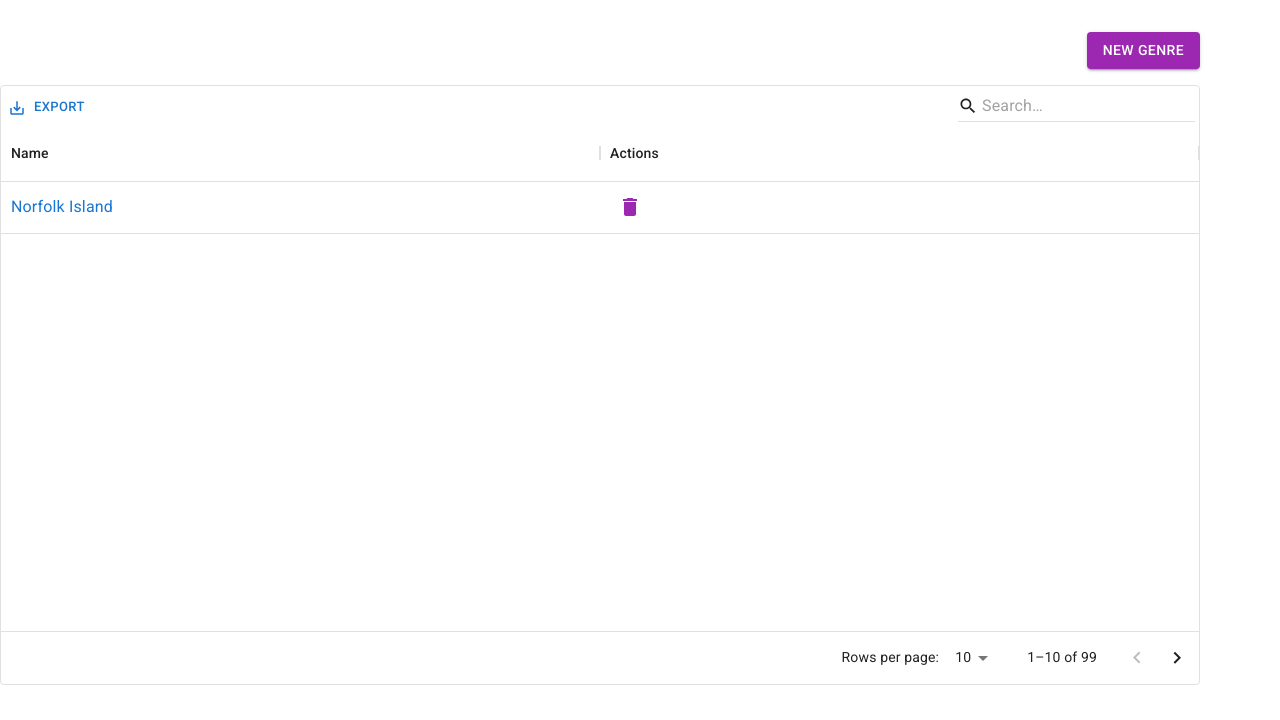
it: ListGenre › should handle Delete Genre error
The image size is (1280, 720).
Expected: the text "Norfolk Island" is shown, left=11, top=195, right=113, bottom=219
Click the button with test id "delete-button".
click(630, 207)  # box left=610, top=187, right=650, bottom=227
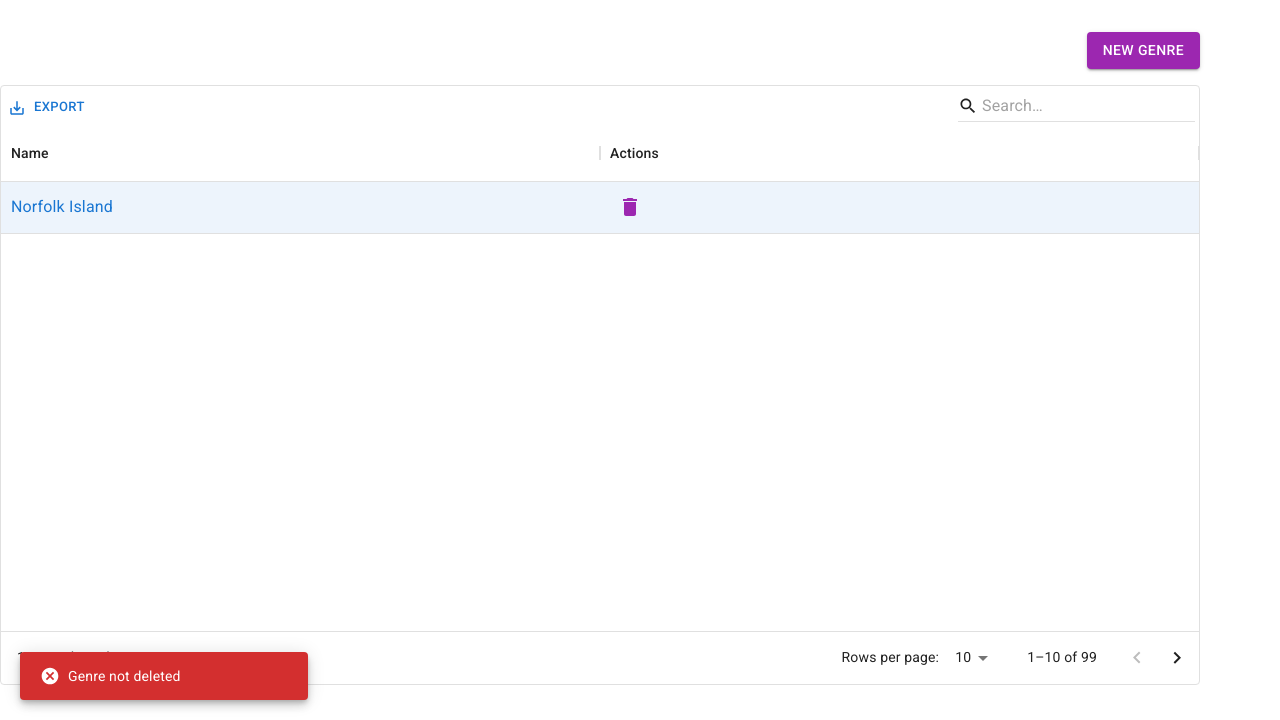
Expected: the text "Genre not deleted" is shown, left=40, top=666, right=181, bottom=686
